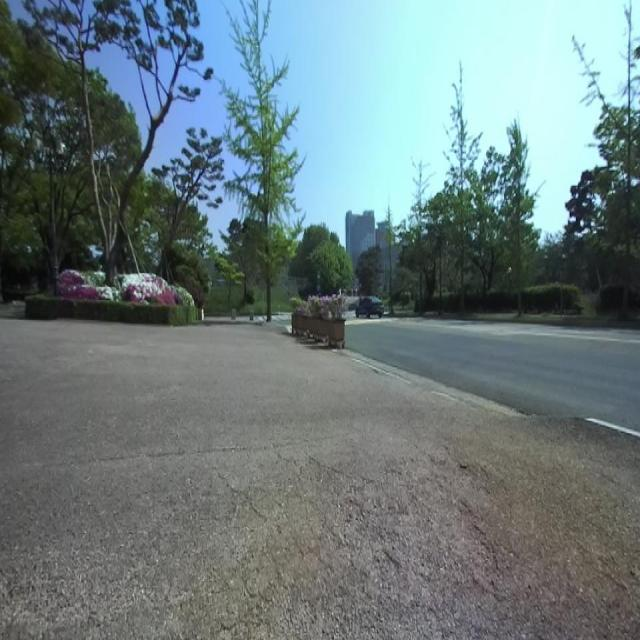sidewalk: (0, 318, 640, 638)
